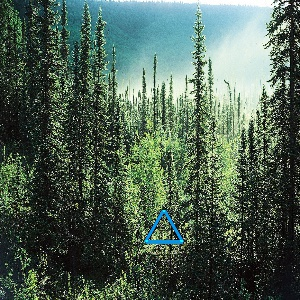triangle: (141, 206, 187, 247)
